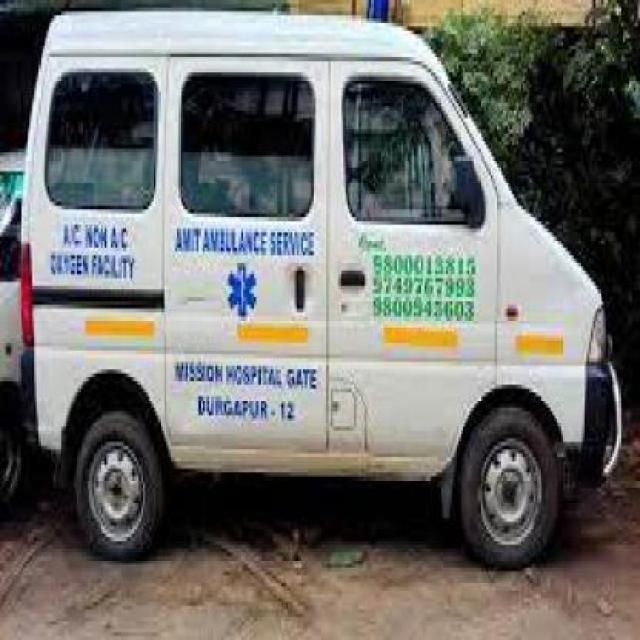Ambulance: (1, 2, 628, 576), (0, 415, 638, 638)
